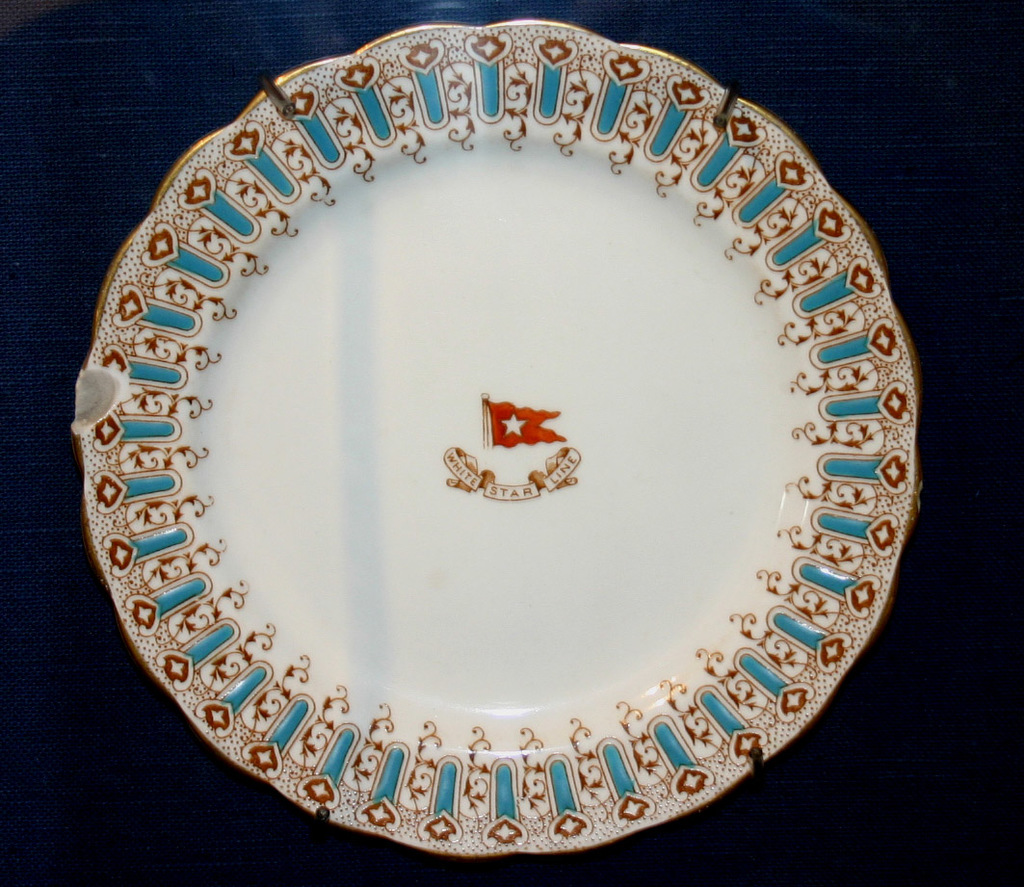plate: (70, 17, 923, 859)
